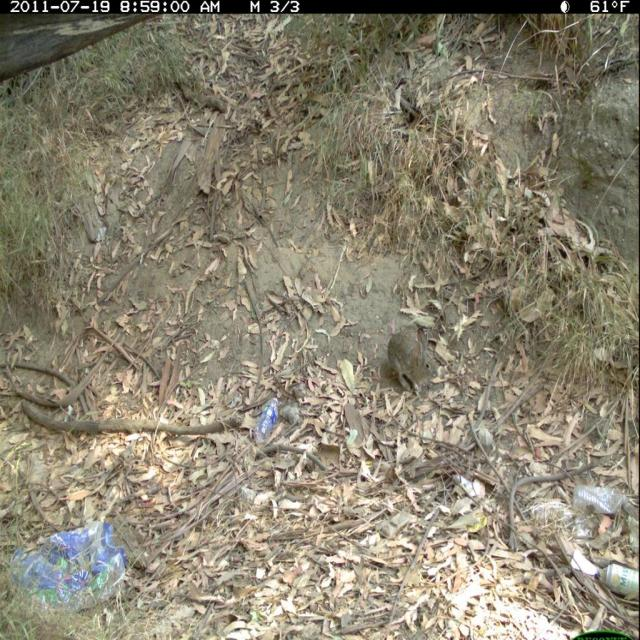rabbit: (382, 323, 443, 394)
